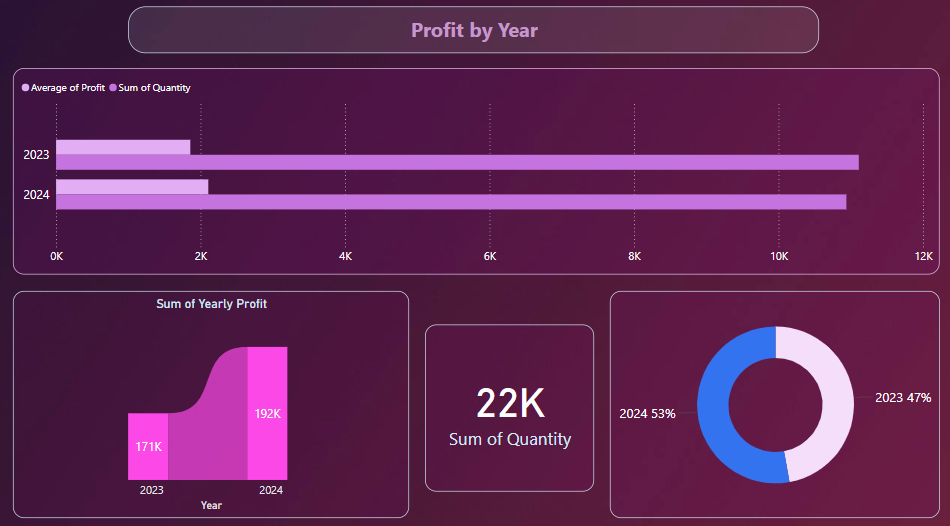

What the dashboard file says about the page in this screenshot:
{"tool":"powerbi","page":{"name":"Page 3","canvas":[1280,720],"ordinal":2},"visuals":[{"type":"donutChart","title":"Sum of Profit","fields":{"Category":["Sales_data.Date.Variation.Date Hierarchy.Year"],"Y":["Sum(Sales_data.Profit)"]},"box":[822,398.9,441.3,303.3],"z":0},{"type":"ribbonChart","title":"Sum of Yearly Profit ","fields":{"Category":["Sales_data.Date.Variation.Date Hierarchy.Year","Sales_data.Date.Variation.Date Hierarchy.Month","Sales_data.Date.Variation.Date Hierarchy.Day"],"Y":["Sum(Sales_data.Profit)"]},"box":[24,398.7,529.3,304],"z":1000},{"type":"card","fields":{"Values":["Sum(Sales_data.Quantity)"]},"box":[574.8,443,226,223],"z":2000},{"type":"textbox","box":[178.6,18.6,922.9,62.9],"z":3000},{"type":"clusteredBarChart","fields":{"Category":["Sales_data.Date.Variation.Date Hierarchy.Year"],"Y":["Avg(Sales_data.Profit)","Sum(Sales_data.Quantity)"]},"box":[24,100,1238.7,276],"z":4000}]}

Visuals, with their boxes in screenshot pixels (x1, y1, x2, y2), scaled from the page's 1280x720 canvas onto the 950x526 screenshot:
"Sum of Profit" donutChart: 610 291 938 513
"Sum of Yearly Profit " ribbonChart: 18 291 411 513
card - Sum(Sales_data.Quantity): 427 324 594 487
textbox: 133 14 818 60
clusteredBarChart - Sales_data.Date.Variation.Date Hierarchy.Year x Avg(Sales_data.Profit): 18 73 937 275
